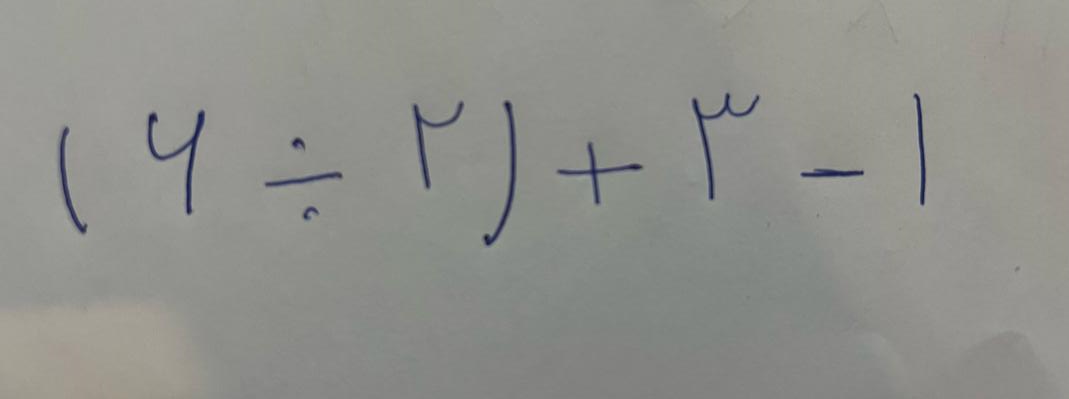character: (691, 89, 760, 206), (263, 127, 341, 225), (558, 141, 640, 222), (146, 107, 202, 218), (409, 99, 469, 197), (486, 99, 521, 252), (56, 120, 85, 233), (913, 94, 928, 207), (794, 162, 865, 179)
